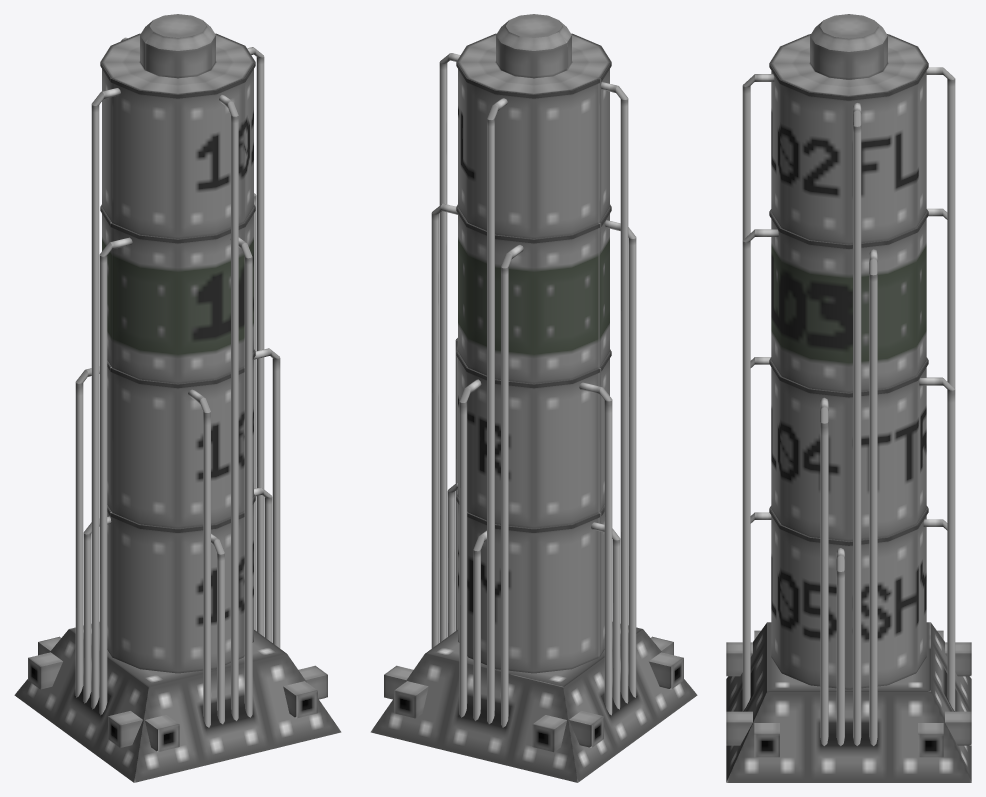
File: refinery.obj
The picture shows the model from 3 angles, left to right: view 1: azimuth 30°, elevation 25°; view 2: azimuth 150°, elevation 25°; view 3: azimuth 270°, elevation 25°; orthographic projection. The views are drawn at different scales.
Visible parts, largest first — view 1: Plane; view 2: Plane; view 3: Plane.
Boxes of the visible parts, <box> form: Plane: <box>14,14,341,782</box>; Plane: <box>370,14,697,782</box>; Plane: <box>726,14,971,782</box>.
Bounding box in the file's own units: 3 × 9.5 × 3.
